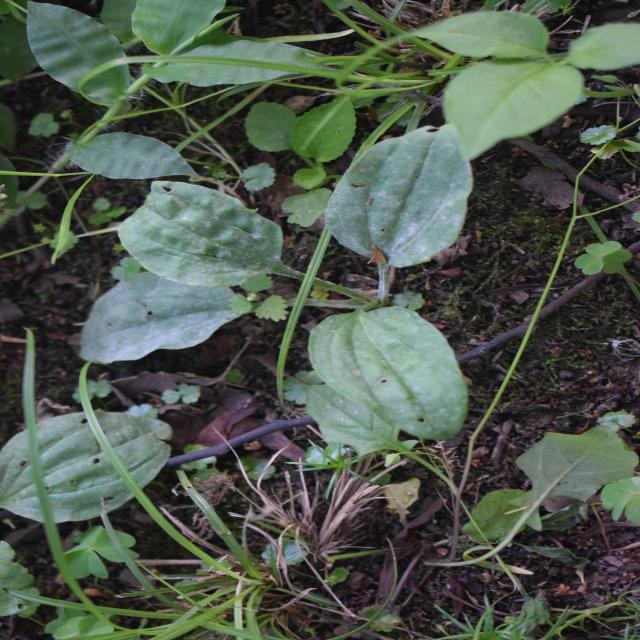plantain: (207, 70, 498, 501)
